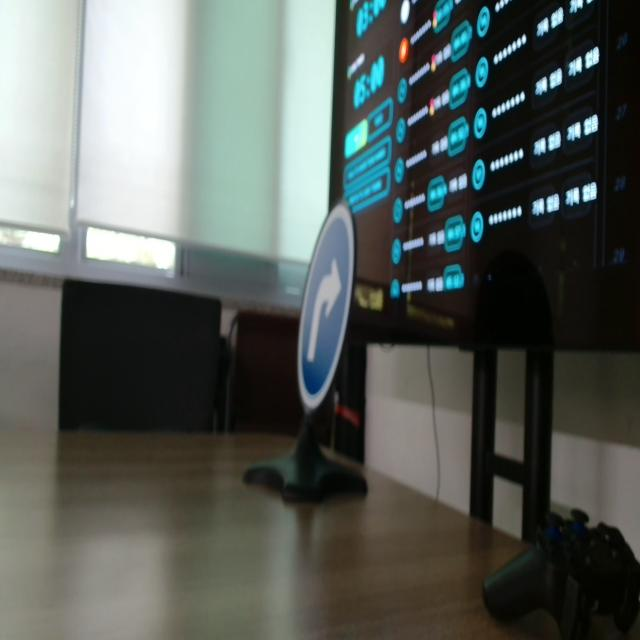right_dierection: (290, 196, 380, 427)
